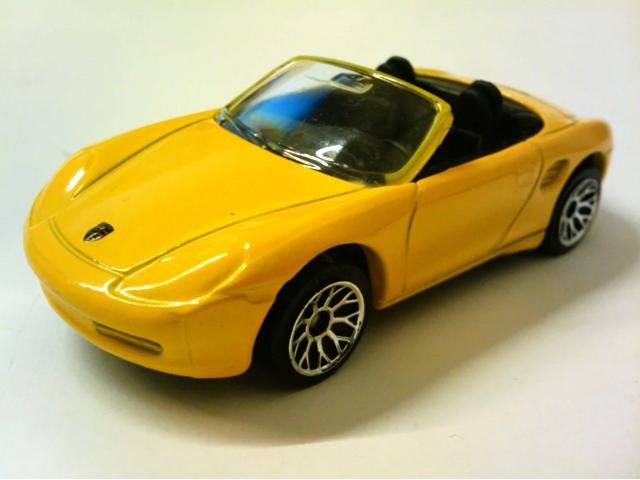toy-car: (22, 53, 615, 390)
